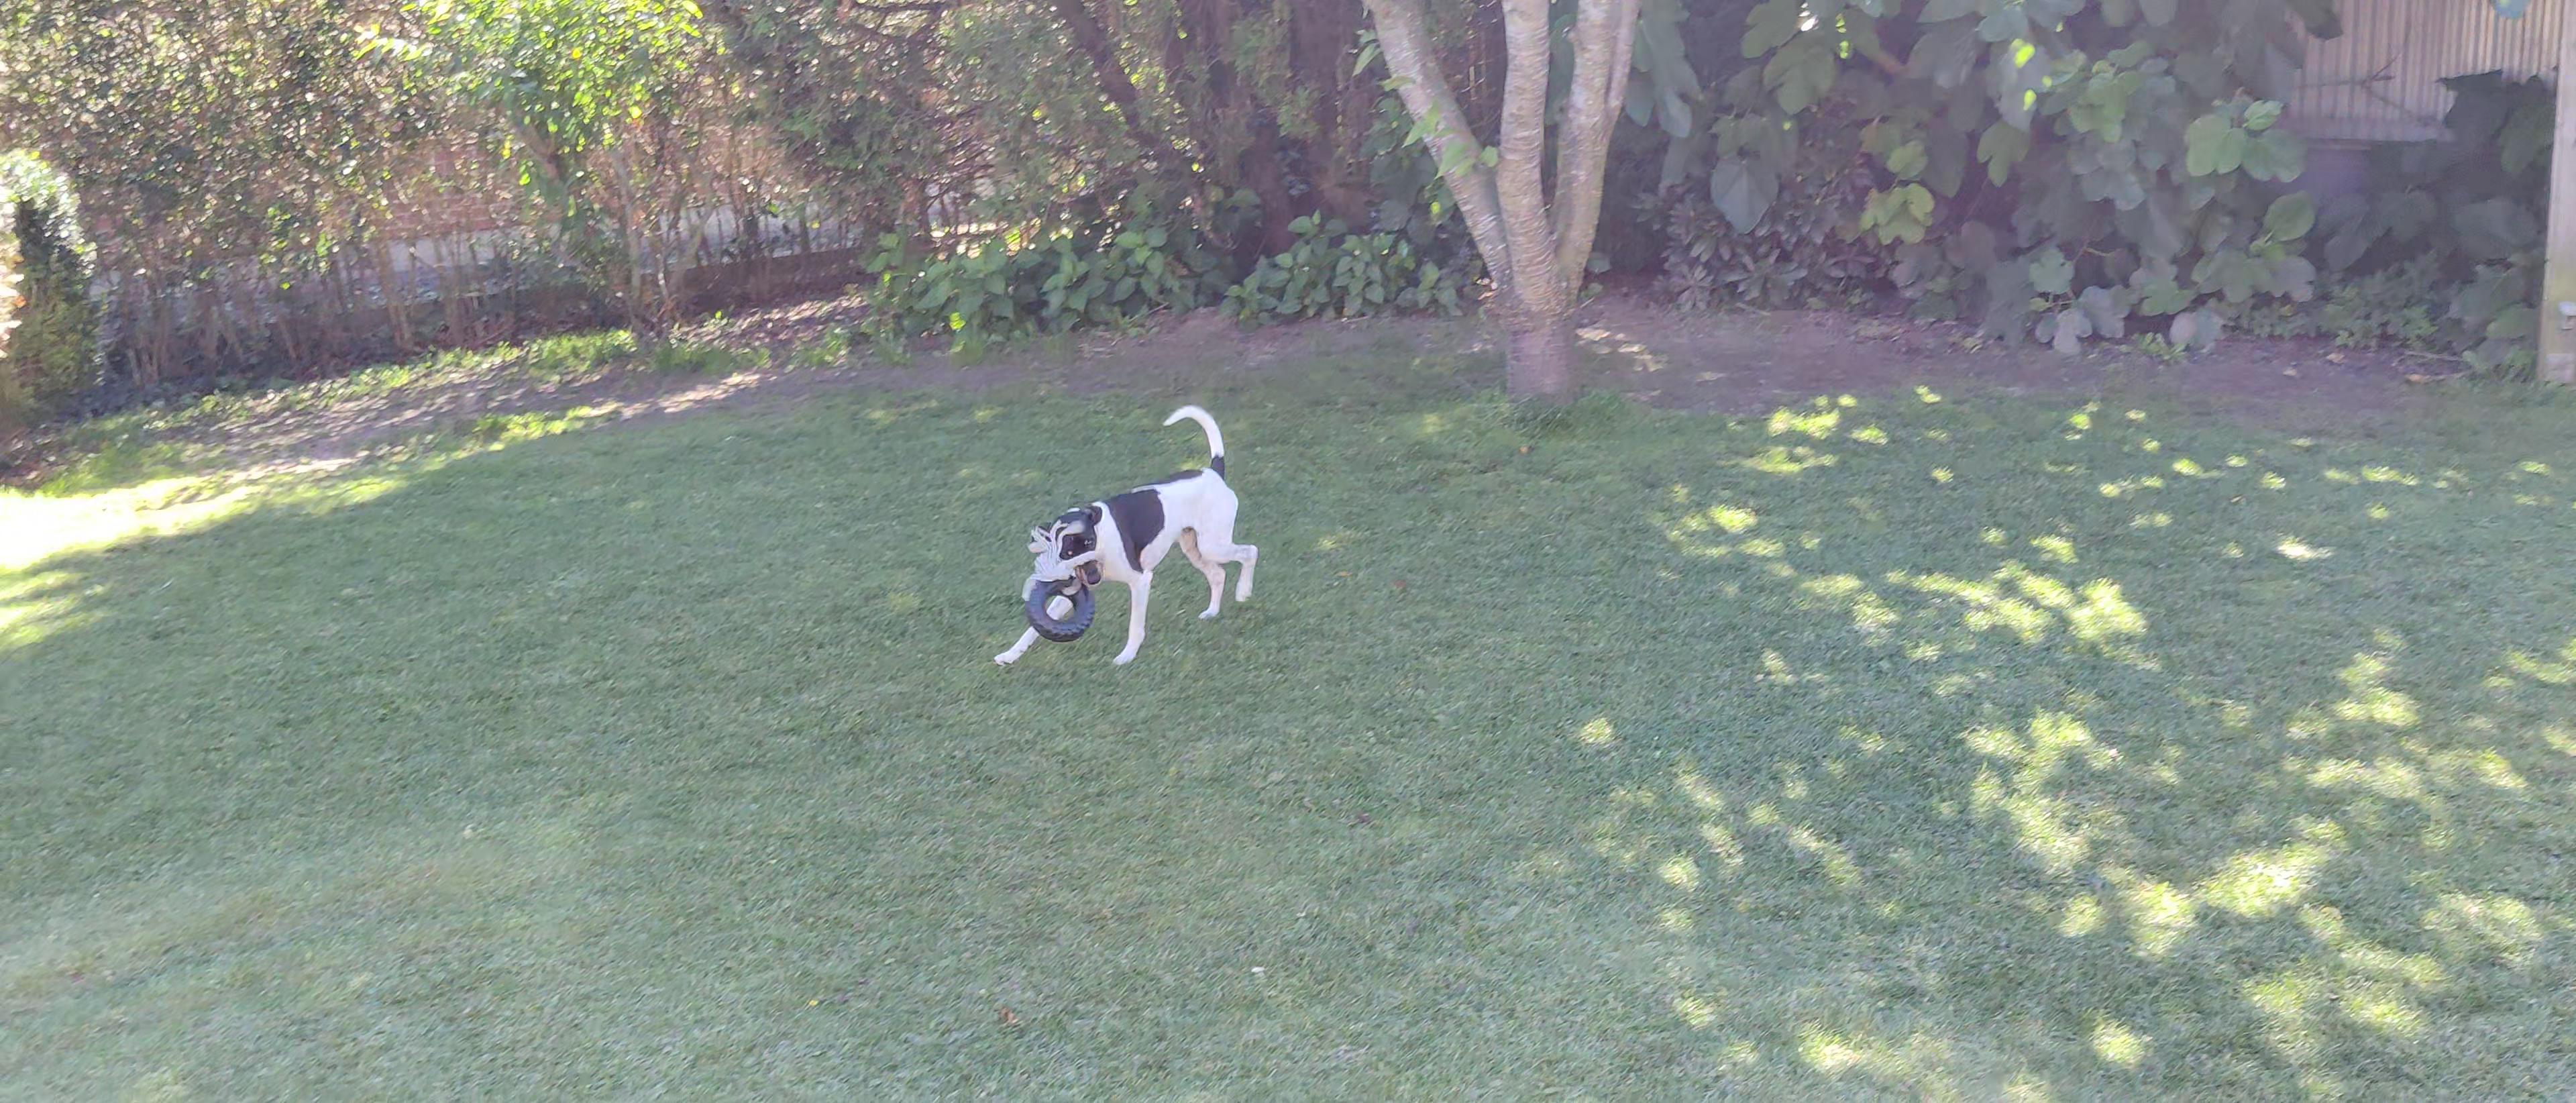Dog: (976, 391, 1275, 685)
